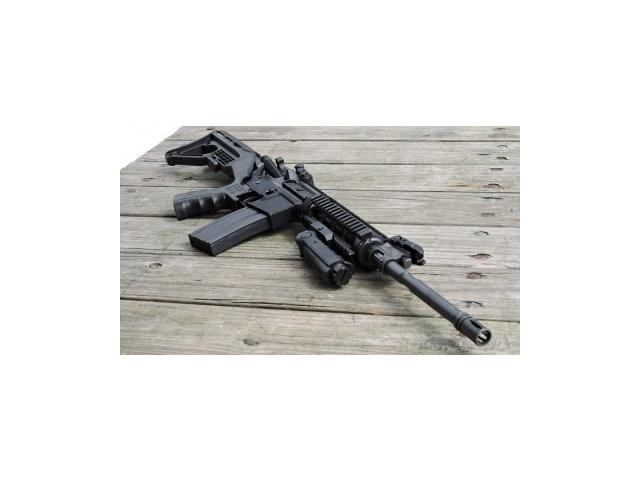rifle: (168, 130, 494, 345)
